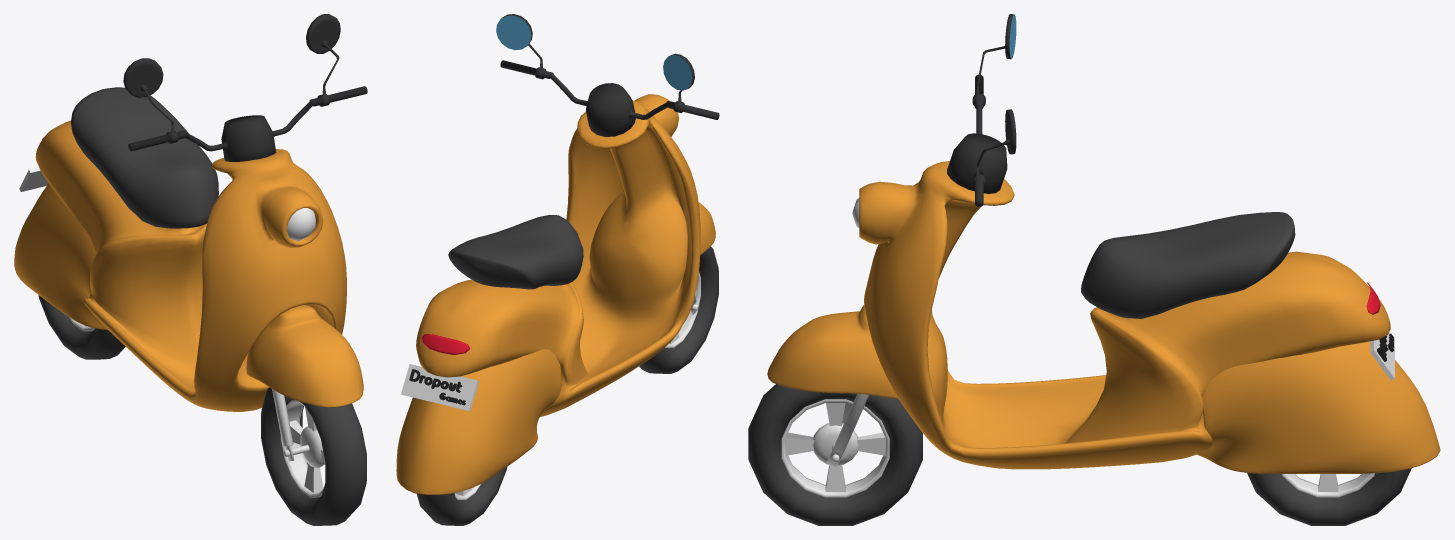
File: Vespa (2).fbx
3 views of the same model, side by side, from view 1: azimuth 30°, elevation 25°; view 2: azimuth 150°, elevation 25°; view 3: azimuth 270°, elevation 25° (orthographic). The views are drawn at different scales.
Visible parts, largest first — view 1: Vespa_Body, Vespa_Sit, Front_Wheel, Vespa_Handle_Bar, Front_Ring, Circle.002, Vespa_Light, Licenseplate; view 2: Vespa_Body, Vespa_Sit, Vespa_Handle_Bar, Front_Wheel, Circle.002, Licenseplate, Vespa_Red_Light, DropOut, Front_Ring; view 3: Vespa_Body, Vespa_Sit, Front_Wheel, Front_Ring, Circle.002, Vespa_Handle_Bar, Circle.003.
Part boxes in pixels (<box>): Vespa_Body: <box>14,120,363,411</box>; Vespa_Sit: <box>71,87,218,228</box>; Front_Wheel: <box>261,387,366,525</box>; Vespa_Handle_Bar: <box>123,14,367,161</box>; Front_Ring: <box>272,389,325,497</box>; Circle.002: <box>38,295,125,359</box>; Vespa_Light: <box>287,208,315,241</box>; Licenseplate: <box>19,167,48,191</box>; Vespa_Body: <box>396,94,715,494</box>; Vespa_Sit: <box>448,215,583,289</box>; Vespa_Handle_Bar: <box>496,14,719,136</box>; Front_Wheel: <box>639,246,718,373</box>; Circle.002: <box>417,467,507,525</box>; Licenseplate: <box>401,364,478,411</box>; Vespa_Red_Light: <box>421,334,470,354</box>; DropOut: <box>409,369,465,405</box>; Front_Ring: <box>665,271,700,347</box>; Vespa_Body: <box>767,161,1440,473</box>; Vespa_Sit: <box>1081,212,1295,318</box>; Front_Wheel: <box>748,384,922,525</box>; Front_Ring: <box>781,393,889,497</box>; Circle.002: <box>1247,468,1411,525</box>; Vespa_Handle_Bar: <box>947,14,1016,206</box>; Circle.003: <box>1281,473,1375,497</box>.
Size of the model in its own units: 67.01 by 157 by 115.
